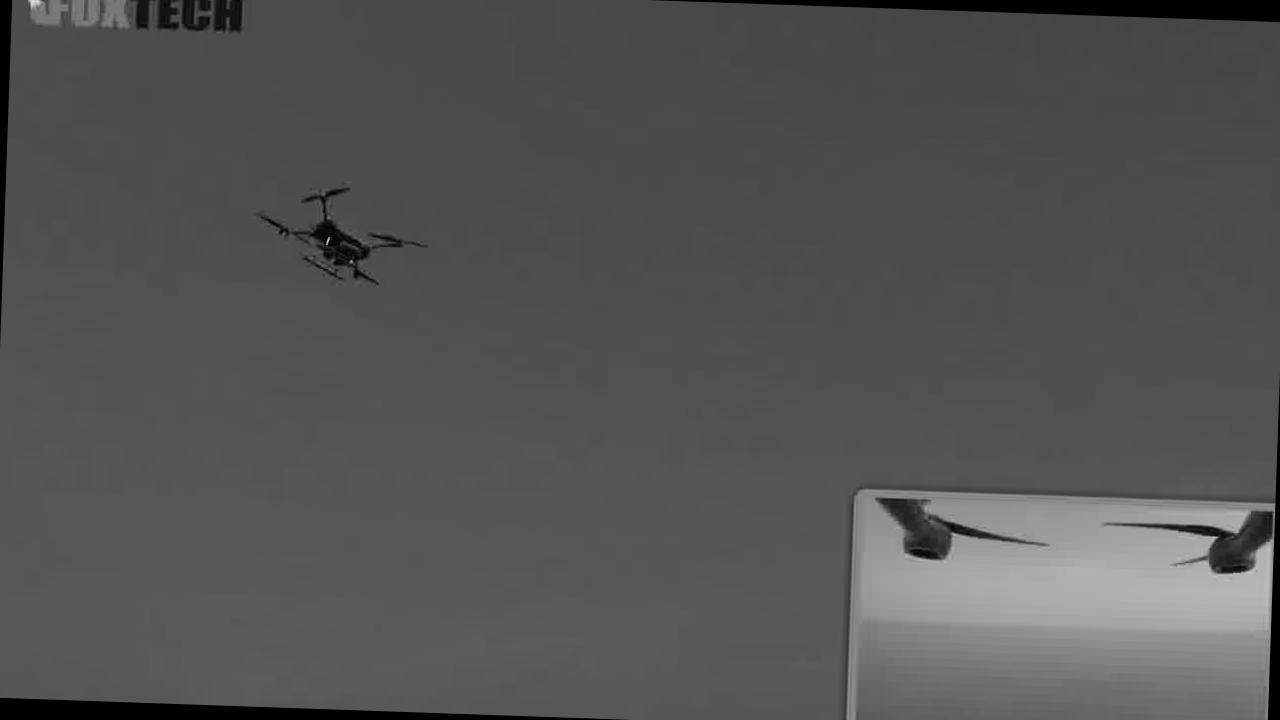drone: (243, 167, 444, 302)
